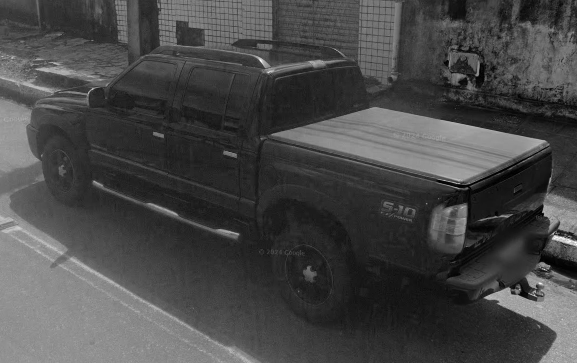car: (26, 38, 555, 330)
